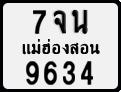letters: (71, 8, 89, 34), (31, 9, 47, 36), (24, 59, 40, 86), (43, 59, 58, 86), (52, 9, 67, 35), (62, 60, 76, 86), (80, 60, 94, 86)
province: (21, 37, 101, 56)
